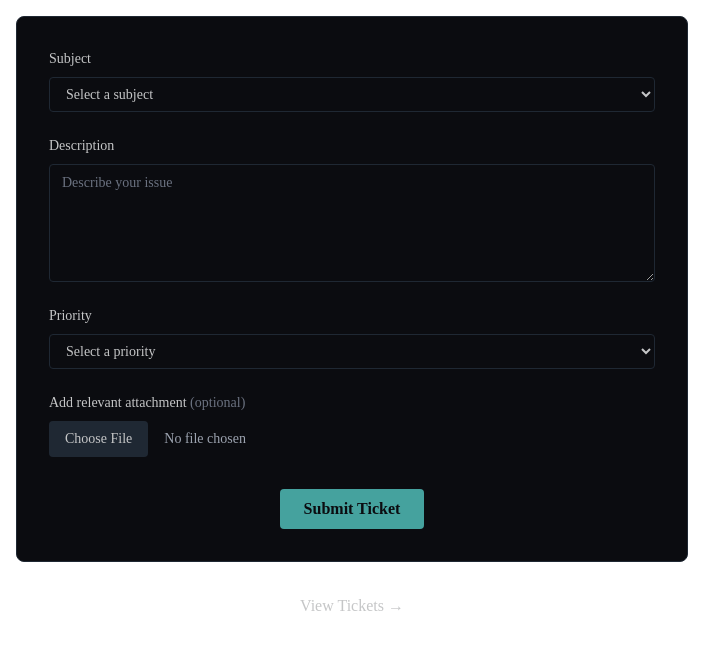
Test: TicketPage › handles server error
This screenshot has width=705, height=672.
Select "Chat" in the dropdown labelled "Subject" at coordinates (352, 94), box x1=49 y1=77 x2=655 y2=112
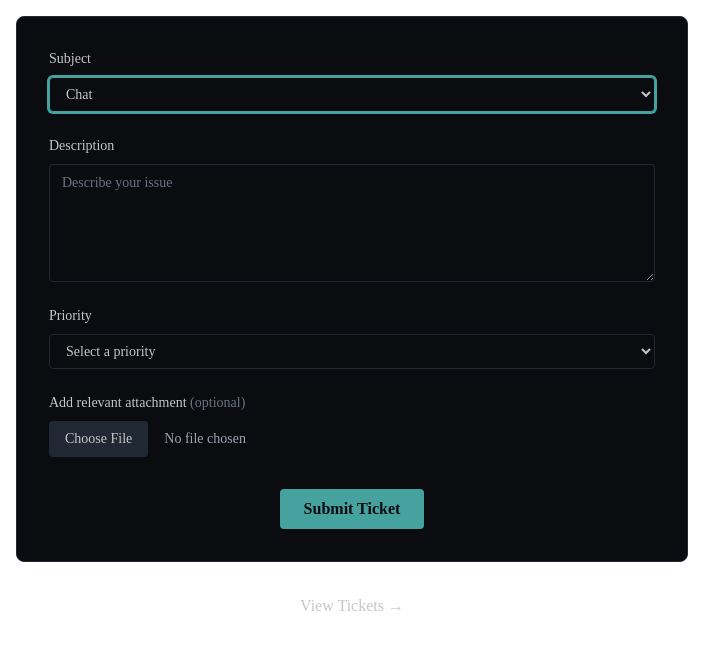
Type "Chat issue" into the text box labelled "Description" at coordinates (352, 223), box x1=49 y1=164 x2=655 y2=282
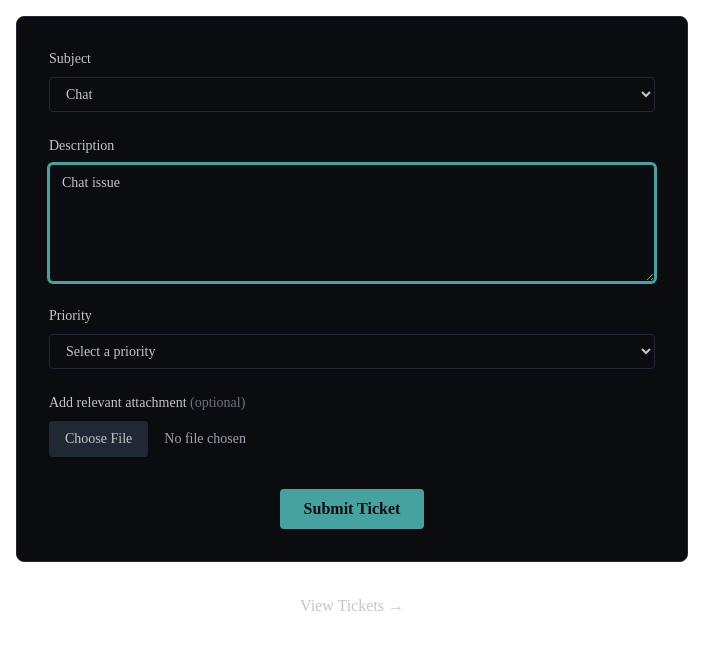
Select "High" in the dropdown labelled "Priority" at coordinates (352, 352), box x1=49 y1=334 x2=655 y2=369
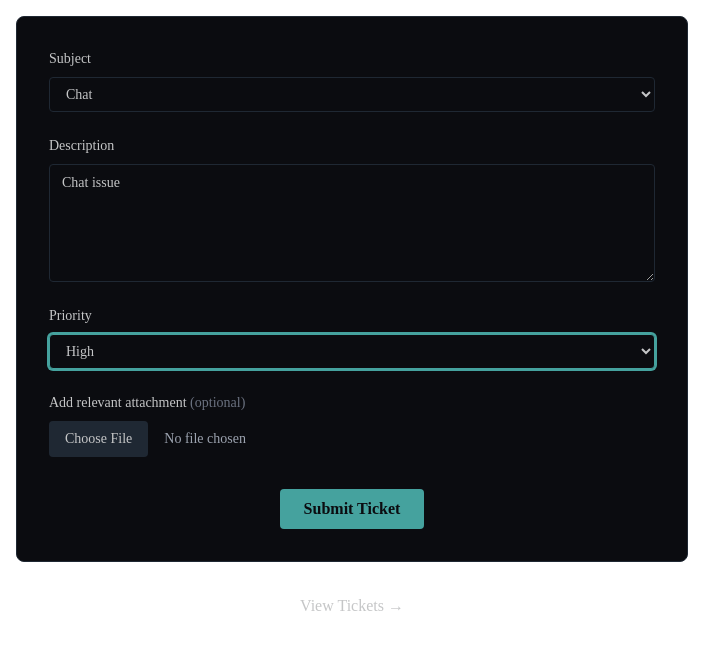
Click the button "Submit Ticket" at coordinates (352, 509), box x1=280 y1=489 x2=424 y2=529
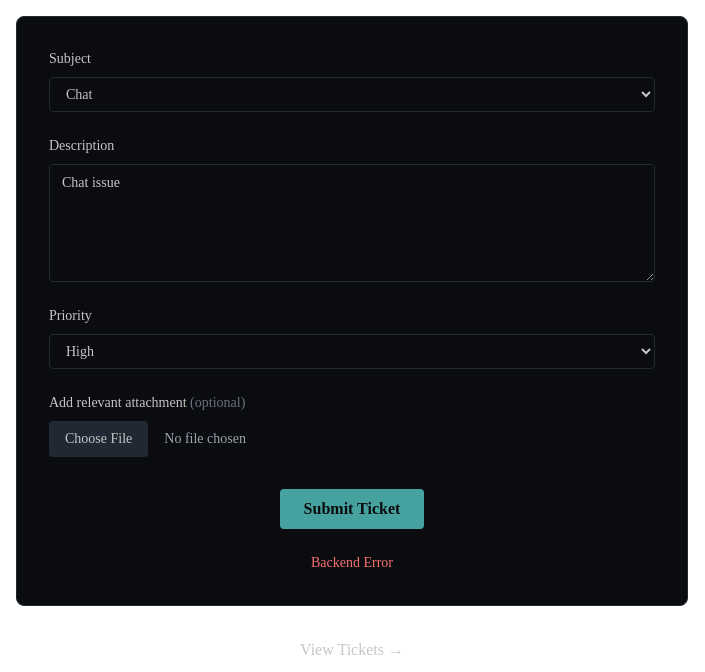
Result: the text "Backend Error" is shown at x1=311 y1=555 x2=393 y2=570
